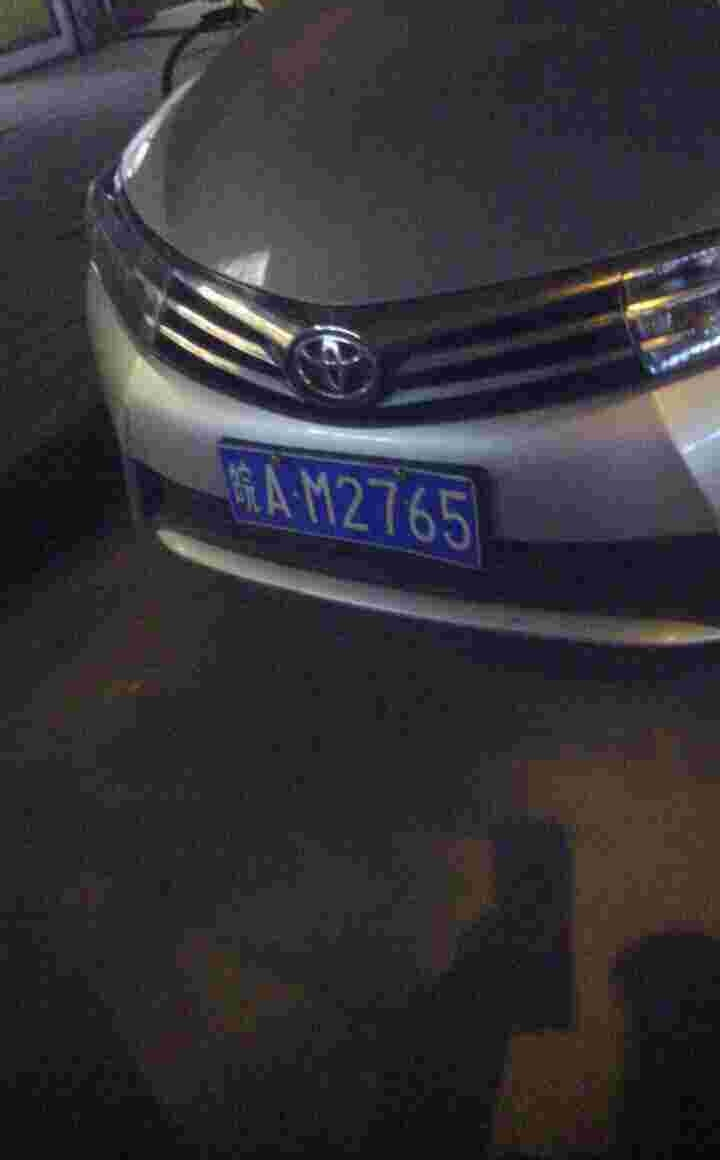license_plate: (218, 443, 482, 570)
